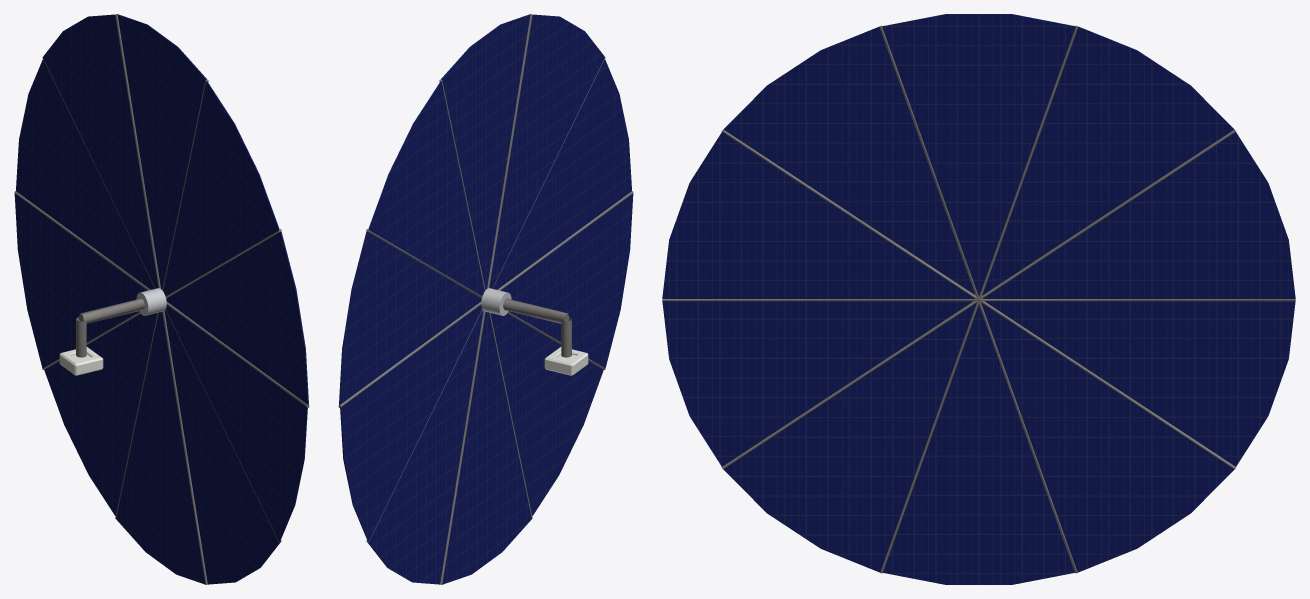
File: ax_power_03_fan_array_m_deployed.glb
3 renders of one model, left to right at view 1: azimuth 30°, elevation 25°; view 2: azimuth 150°, elevation 25°; view 3: azimuth 270°, elevation 25°, orthographic. The views are drawn at different scales.
Visible parts, largest first — view 1: petal_1, petal_9, petal_7, petal_3, petal_10, petal_8, petal_2, petal_6, petal_5, petal_4, spars, yoke (+2 smaller); view 2: petal_5, petal_7, petal_9, petal_3, petal_6, petal_8, petal_4, petal_10, petal_1, petal_2, spars, yoke (+2 smaller); view 3: petal_8, petal_2, petal_4, petal_6, petal_10, petal_7, petal_9, petal_1, petal_5, petal_3, spars.
Part boxes in pixels (<box>): petal_1: <box>166,305,307,541</box>; petal_9: <box>163,81,279,296</box>; petal_7: <box>43,14,158,288</box>; petal_3: <box>116,312,205,584</box>; petal_10: <box>166,231,308,404</box>; petal_8: <box>117,14,206,289</box>; petal_2: <box>164,310,280,584</box>; petal_6: <box>16,59,154,289</box>; petal_5: <box>14,193,147,368</box>; petal_4: <box>44,313,157,515</box>; spars: <box>14,14,309,584</box>; yoke: <box>76,298,144,357</box>; petal_5: <box>340,305,481,541</box>; petal_7: <box>368,81,484,296</box>; petal_9: <box>489,14,604,288</box>; petal_3: <box>442,312,531,584</box>; petal_6: <box>339,231,481,404</box>; petal_8: <box>441,14,530,289</box>; petal_4: <box>367,310,483,584</box>; petal_10: <box>493,59,631,289</box>; petal_1: <box>500,193,633,368</box>; petal_2: <box>490,313,603,515</box>; spars: <box>338,14,633,584</box>; yoke: <box>503,298,571,357</box>; petal_8: <box>882,14,1075,295</box>; petal_2: <box>723,302,976,572</box>; petal_4: <box>981,302,1234,572</box>; petal_6: <box>983,132,1295,298</box>; petal_10: <box>662,132,974,298</box>; petal_7: <box>982,26,1234,295</box>; petal_9: <box>723,26,975,295</box>; petal_1: <box>662,301,972,466</box>; petal_5: <box>985,301,1295,466</box>; petal_3: <box>883,305,1074,584</box>; spars: <box>662,25,1295,573</box>.
Bounding box in the file's own units: 0.837 × 4.38 × 4.4.
Materials: 4 (3 with a texture image).
